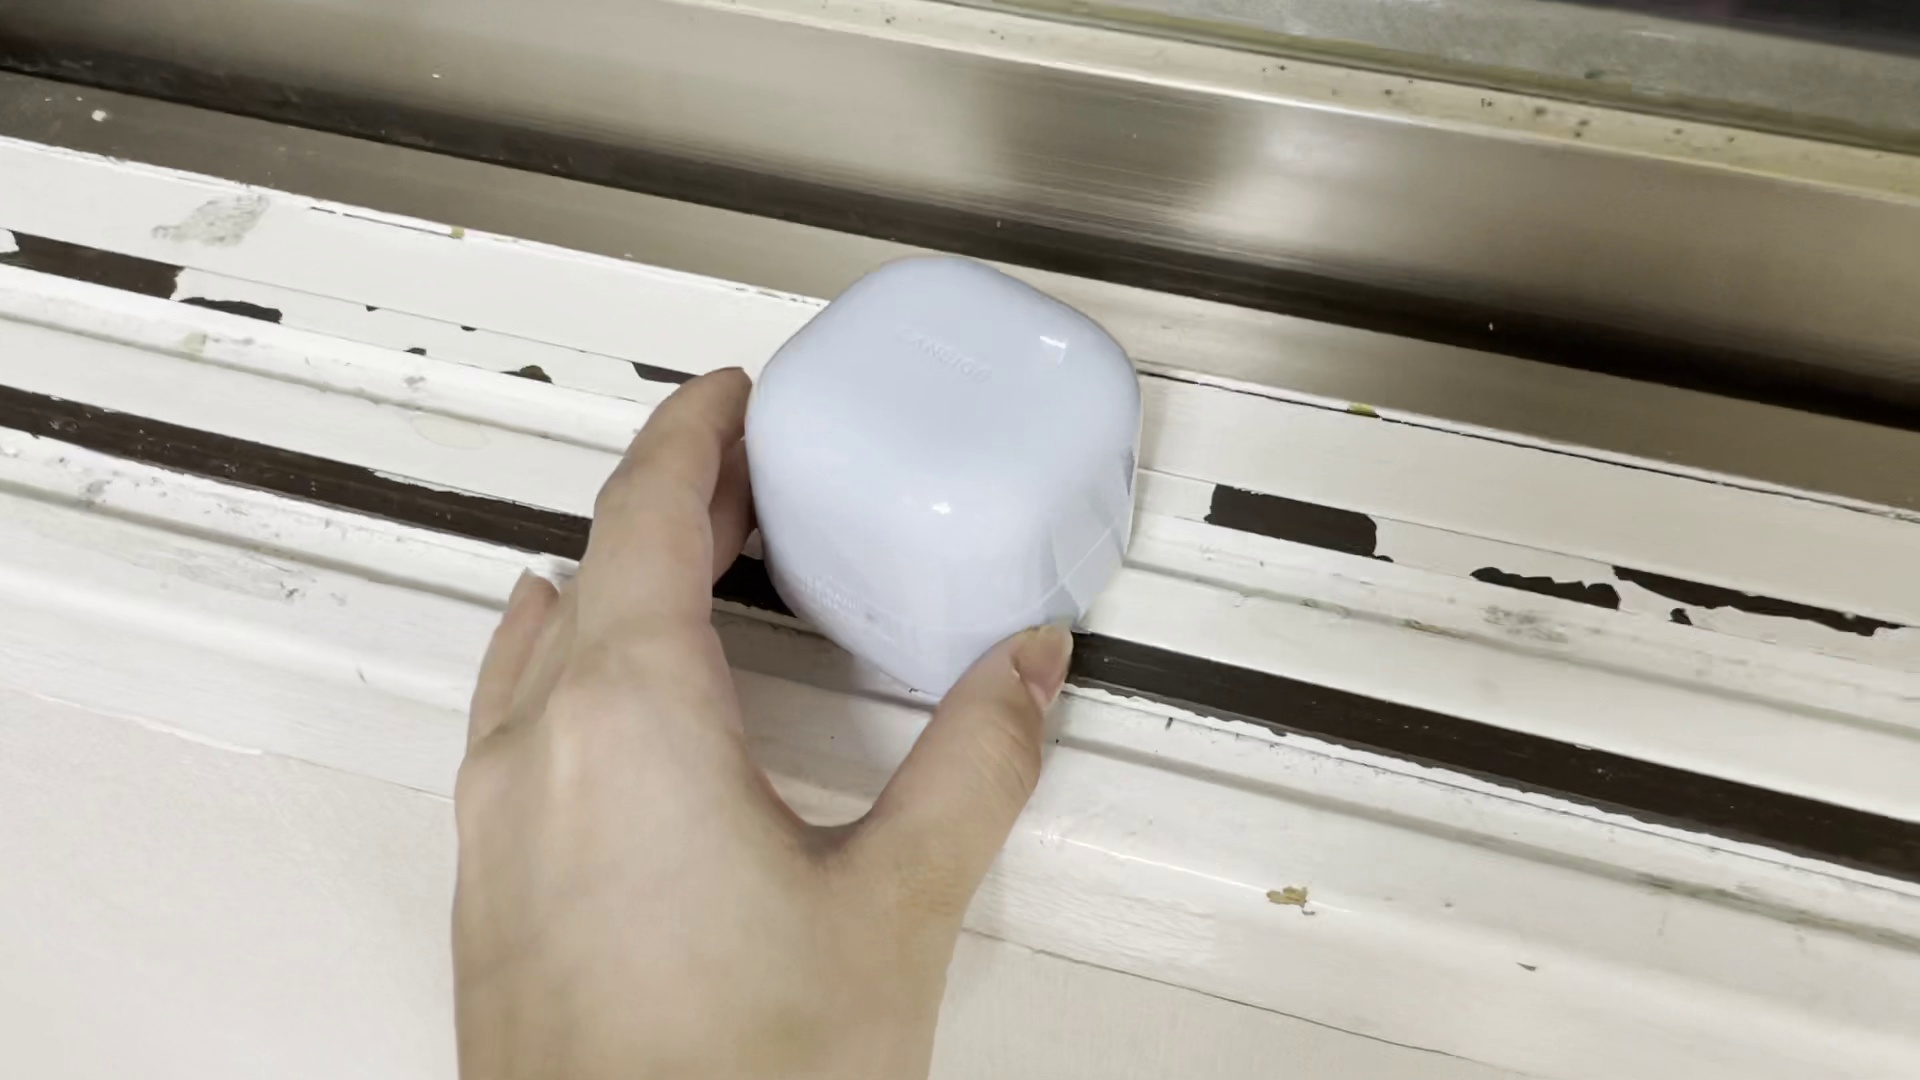cream: (736, 256, 1138, 702)
